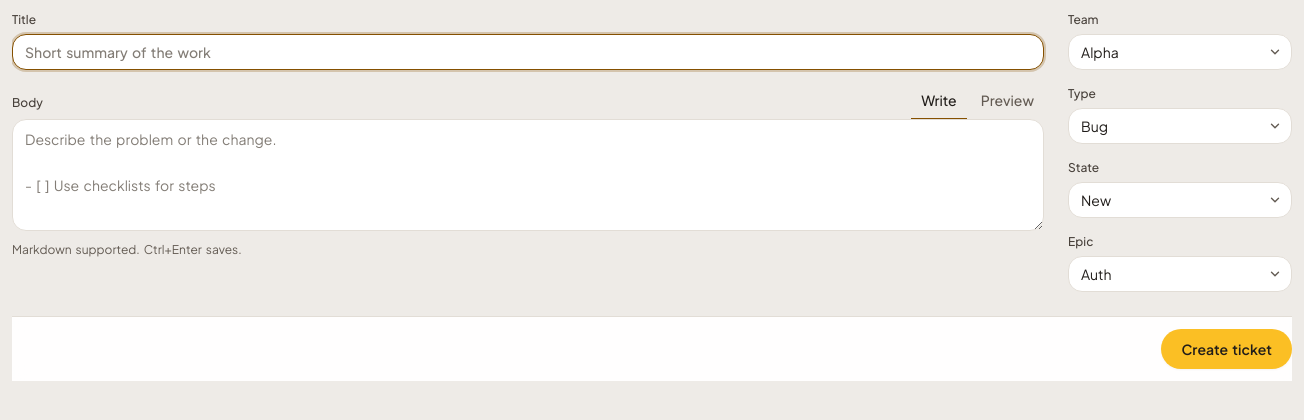
Scenario: TicketForm › clears the epic and lists only the new team’s epics when the team changes
Check: the dropdown labelled "Epic" shows "Auth", box [1068, 256, 1292, 292]
Select "Beta" in the dropdown labelled "Team" at (1180, 52), box [1068, 34, 1292, 70]
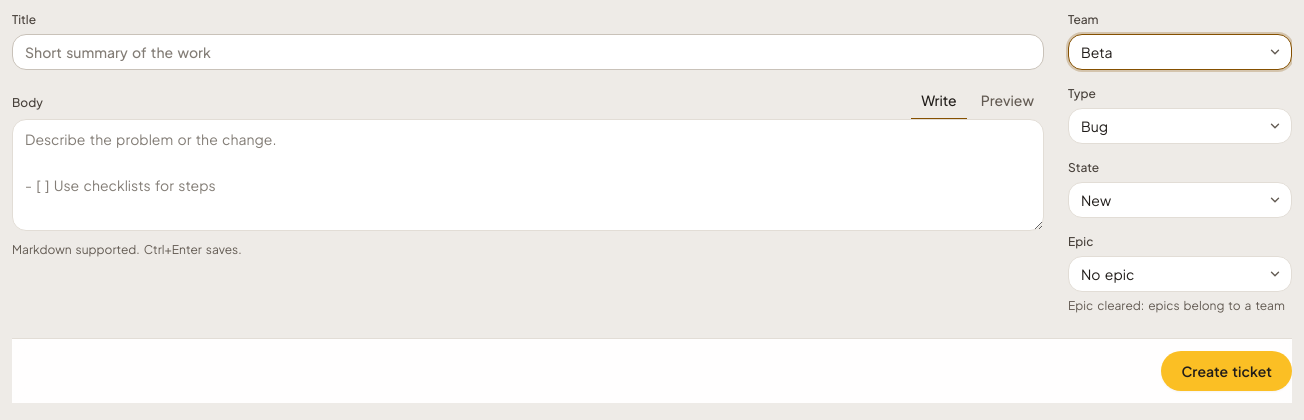
Check: the text "Epic cleared: epics belong to a team" is shown, box [1068, 298, 1292, 314]
